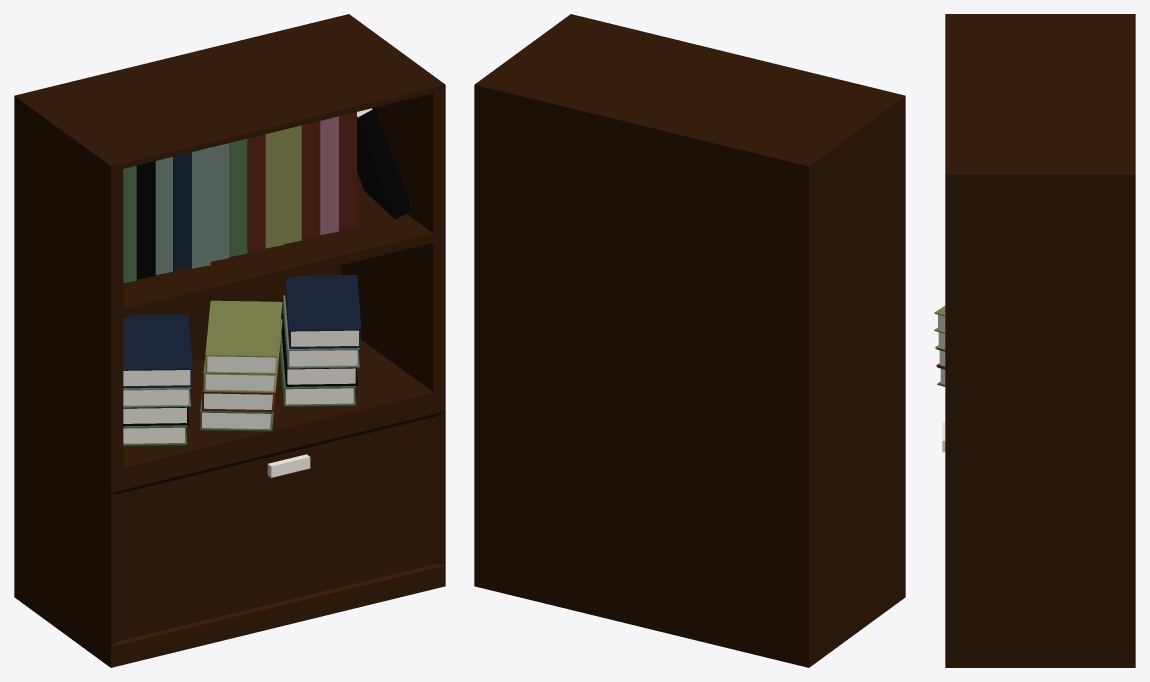
The model's file is shkafkn4.fbx.
3 views of the same model, side by side, from view 1: azimuth 30°, elevation 25°; view 2: azimuth 150°, elevation 25°; view 3: azimuth 270°, elevation 25° (orthographic).
Visible parts, largest first — view 1: Yellow book; view 2: Yellow book; view 3: Yellow book.
Part boxes in pixels (x1=…): Yellow book: x1=14, y1=14, x2=445, y2=667; Yellow book: x1=474, y1=14, x2=905, y2=667; Yellow book: x1=934, y1=14, x2=1135, y2=667.
Bounding box in the file's own units: 310 × 444 × 164.
